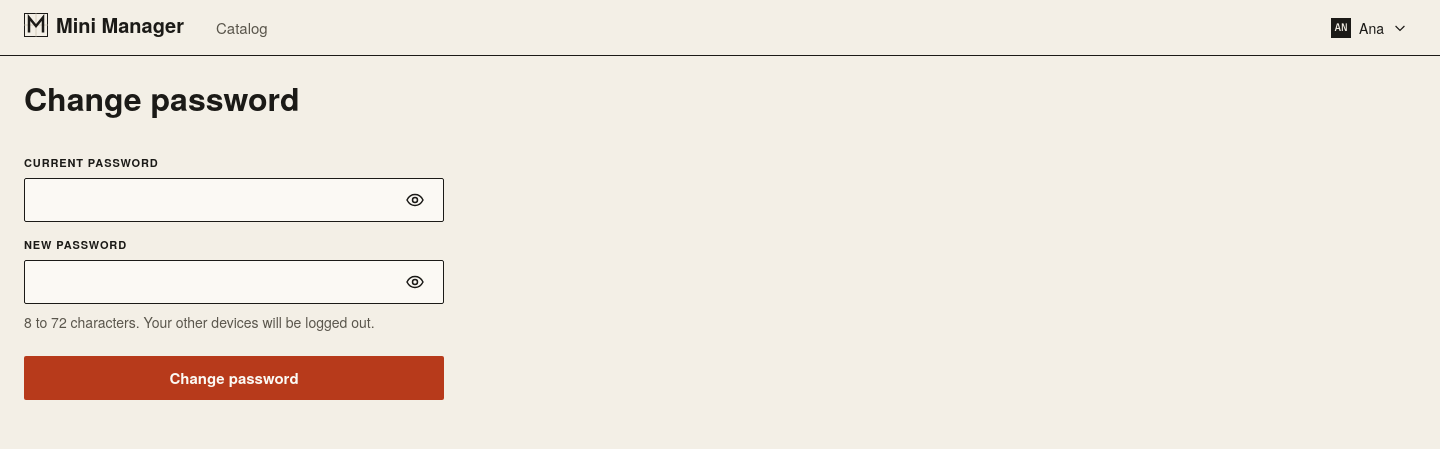
it: ChangePasswordPage › card 3 acceptance criterion 2: a wrong current password shows the error
Type "wrong password" into the password field labelled "Current password" at (214, 200), box [37,179,391,221]
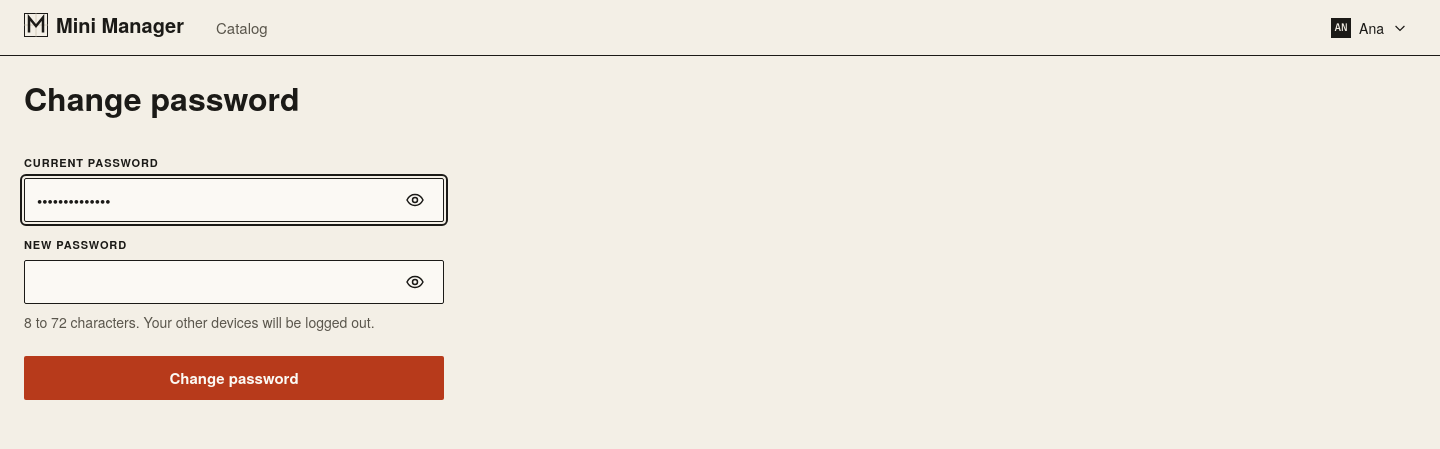
Type "a brand new password" into the password field labelled "New password" at (214, 282), box [37,261,391,303]
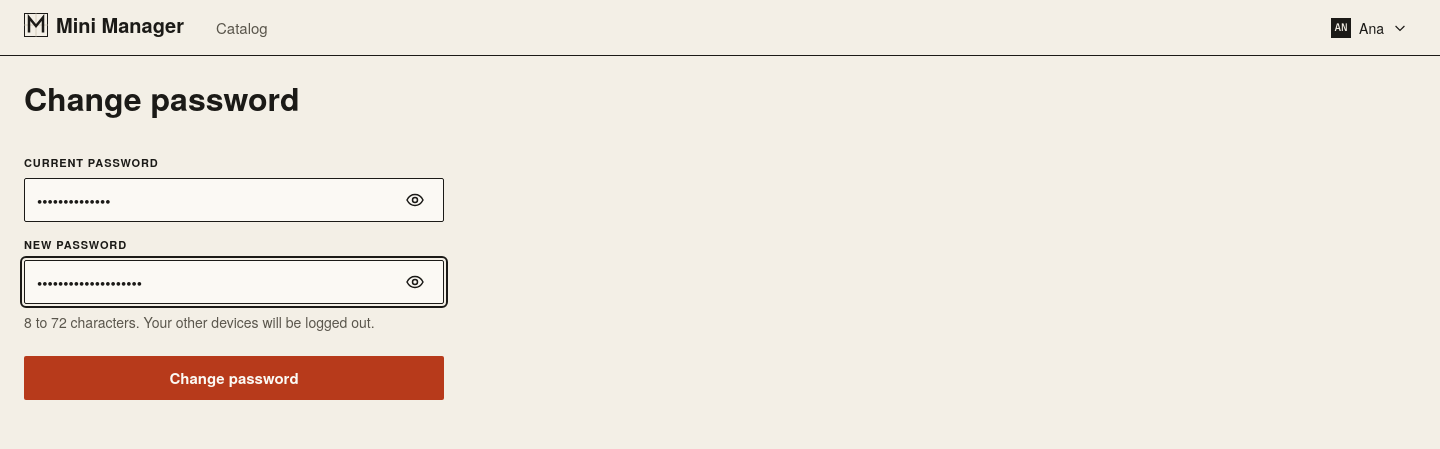
Click the button "Change password" at (234, 378), box [24,356,444,400]
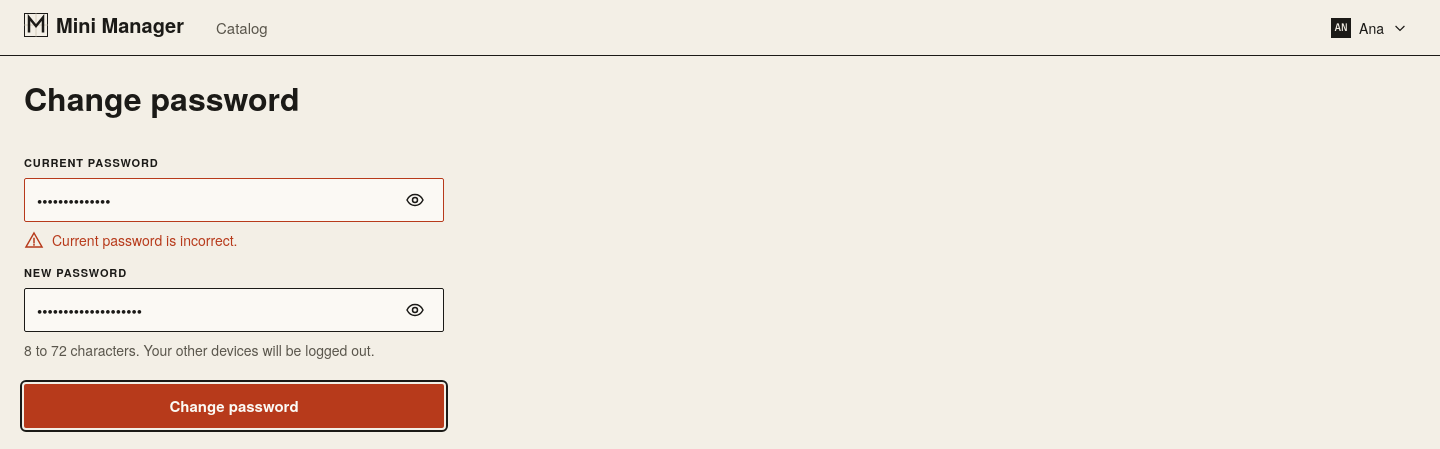
Expected: the text "Current password is incorrect." is shown, [52,230,238,250]
